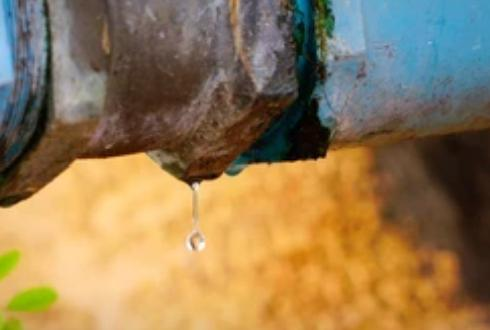water drop: (186, 177, 205, 250), (224, 163, 246, 176)
